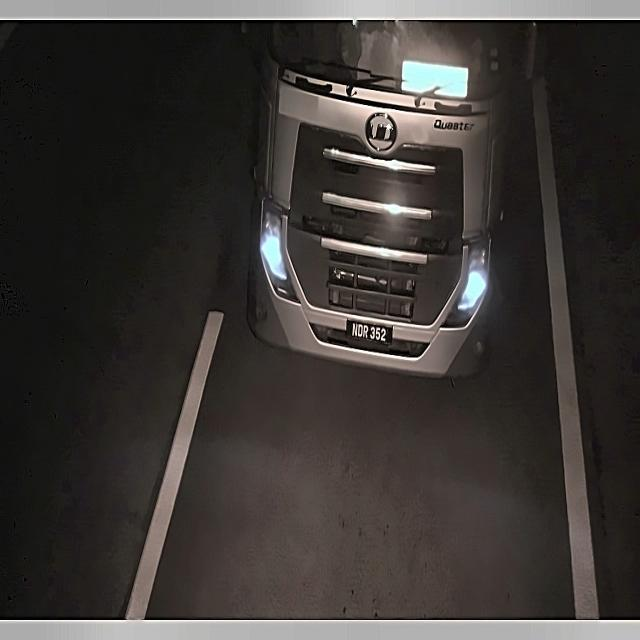car: (344, 316, 394, 353)
